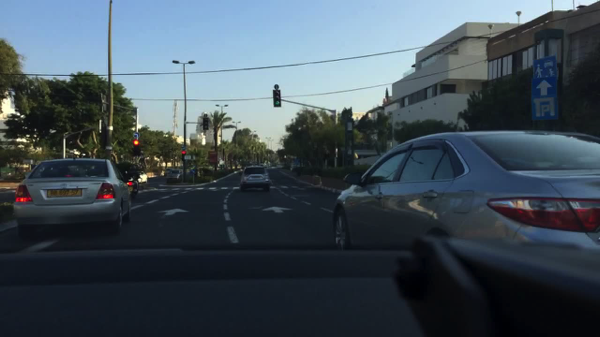car: (329, 130, 598, 253), (12, 156, 132, 243), (238, 164, 272, 193), (165, 169, 184, 187), (134, 170, 149, 185), (237, 166, 247, 177), (162, 168, 173, 177)
motor: (121, 171, 140, 199)
rider: (122, 163, 141, 184)
traffic light: (100, 125, 109, 149), (272, 89, 282, 108), (99, 94, 109, 111), (133, 140, 140, 157), (202, 117, 209, 131), (181, 150, 187, 162)
traffic sign: (527, 56, 558, 122), (208, 150, 219, 164), (133, 130, 140, 140), (272, 84, 280, 91), (202, 112, 208, 119)
